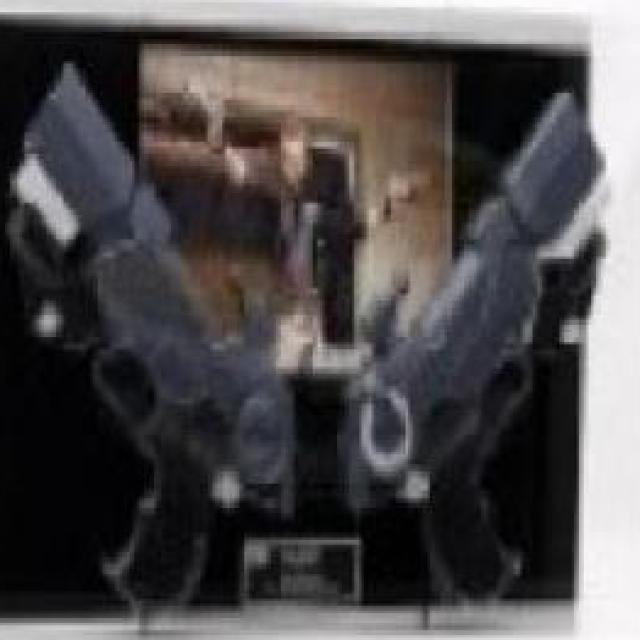pistol: (12, 61, 296, 606), (374, 76, 603, 613)
